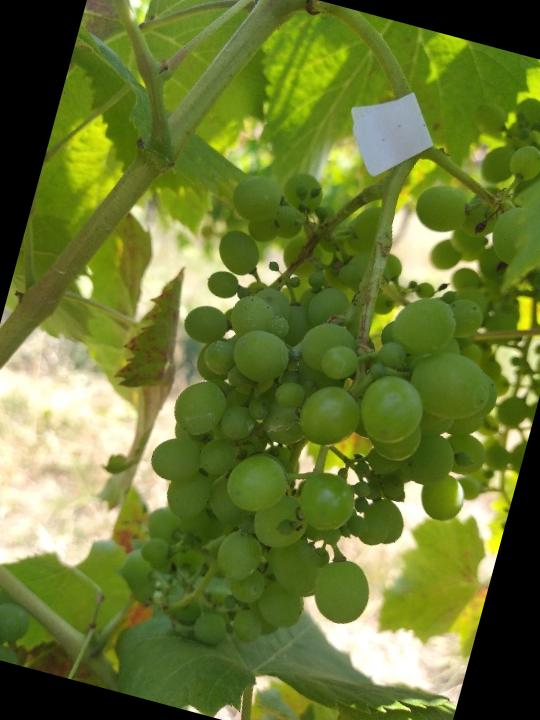grape: (92, 64, 540, 706)
